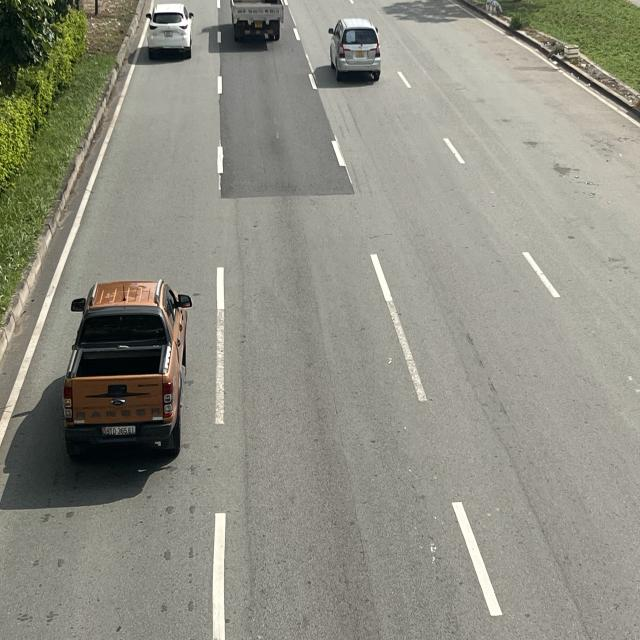car: (62, 278, 194, 459), (328, 16, 382, 80)
